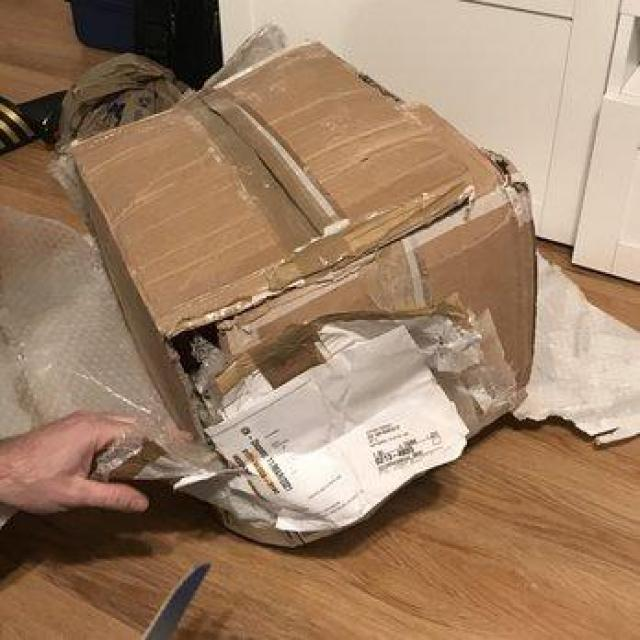damaged: (158, 318, 245, 414)
